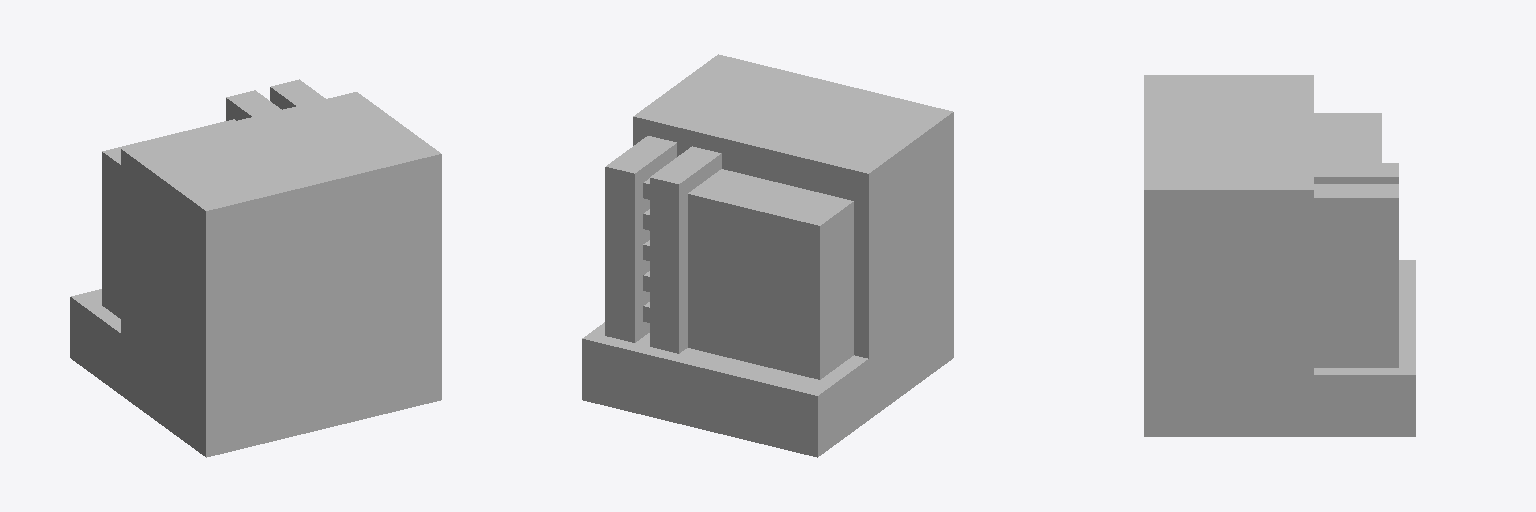
Rendered from pressurized_reaction_chamber.obj.
The picture shows the model from 3 angles: view 1: azimuth 30°, elevation 25°; view 2: azimuth 150°, elevation 25°; view 3: azimuth 270°, elevation 25°; orthographic projection.
Visible parts, largest first — view 1: body, base, front, front_div_1, front_div_2; view 2: body, front, base, front_div_2, front_div_1; view 3: body, base, front_div_2, front, front_div_1.
Part boxes in pixels (bbox=[...]): body: bbox=[121, 92, 441, 395]; base: bbox=[70, 289, 441, 457]; front: bbox=[102, 119, 235, 318]; front_div_1: bbox=[226, 90, 281, 120]; front_div_2: bbox=[270, 79, 325, 109]; body: bbox=[633, 54, 953, 358]; front: bbox=[688, 169, 853, 379]; base: bbox=[582, 297, 953, 457]; front_div_2: bbox=[605, 136, 676, 342]; front_div_1: bbox=[650, 146, 721, 353]; body: bbox=[1144, 75, 1313, 374]; base: bbox=[1144, 260, 1415, 436]; front_div_2: bbox=[1314, 184, 1398, 367]; front: bbox=[1314, 113, 1381, 162]; front_div_1: bbox=[1314, 163, 1398, 183].
Size of the model in its own units: 1 by 1 by 1.